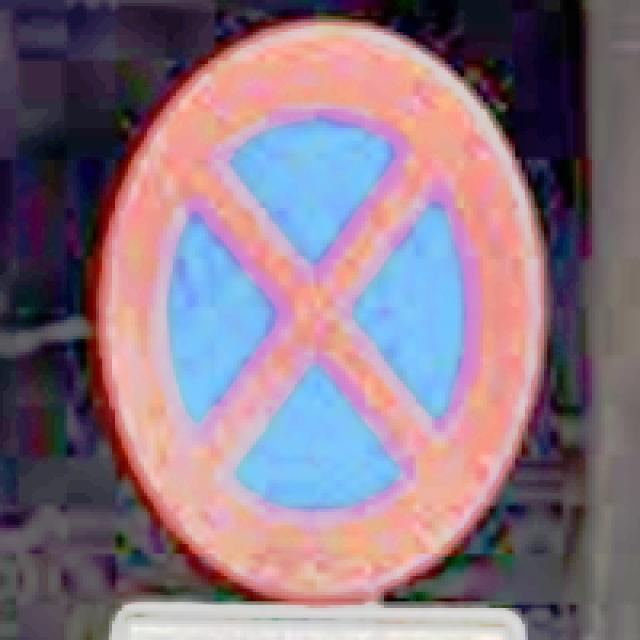nopark: (96, 19, 547, 605)
